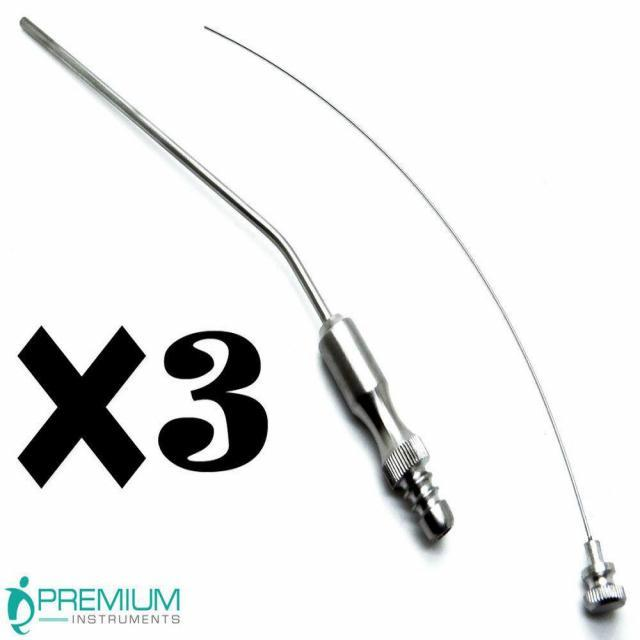Frazier: (18, 10, 456, 554)
